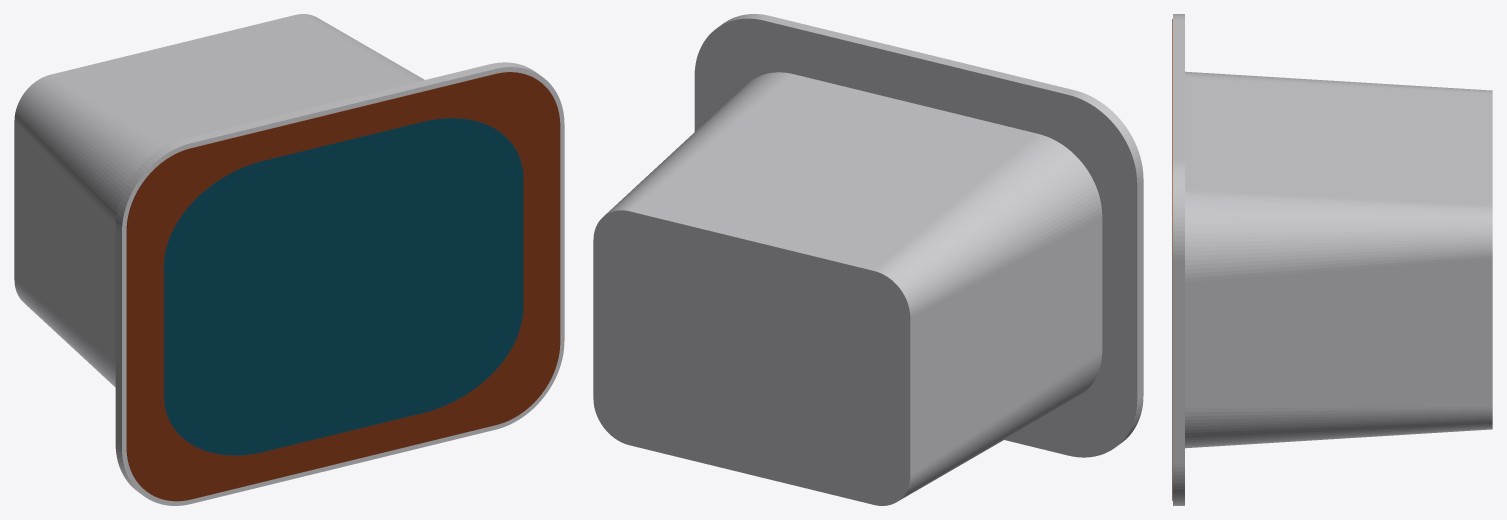
3 renders of one model, left to right at view 1: azimuth 30°, elevation 25°; view 2: azimuth 150°, elevation 25°; view 3: azimuth 270°, elevation 25°, orthographic. The views are drawn at different scales.
Parts seen in each view (by area): view 1: heinz_snap_pot_visual; view 2: heinz_snap_pot_visual; view 3: heinz_snap_pot_visual.
Part boxes in pixels (x1,y1,x2,y2): heinz_snap_pot_visual: [14, 14, 564, 505]; heinz_snap_pot_visual: [593, 14, 1143, 505]; heinz_snap_pot_visual: [1172, 14, 1492, 505].
Size of the model in its own units: 0.095 by 0.074 by 0.0635.
2 materials, 1 textured.
